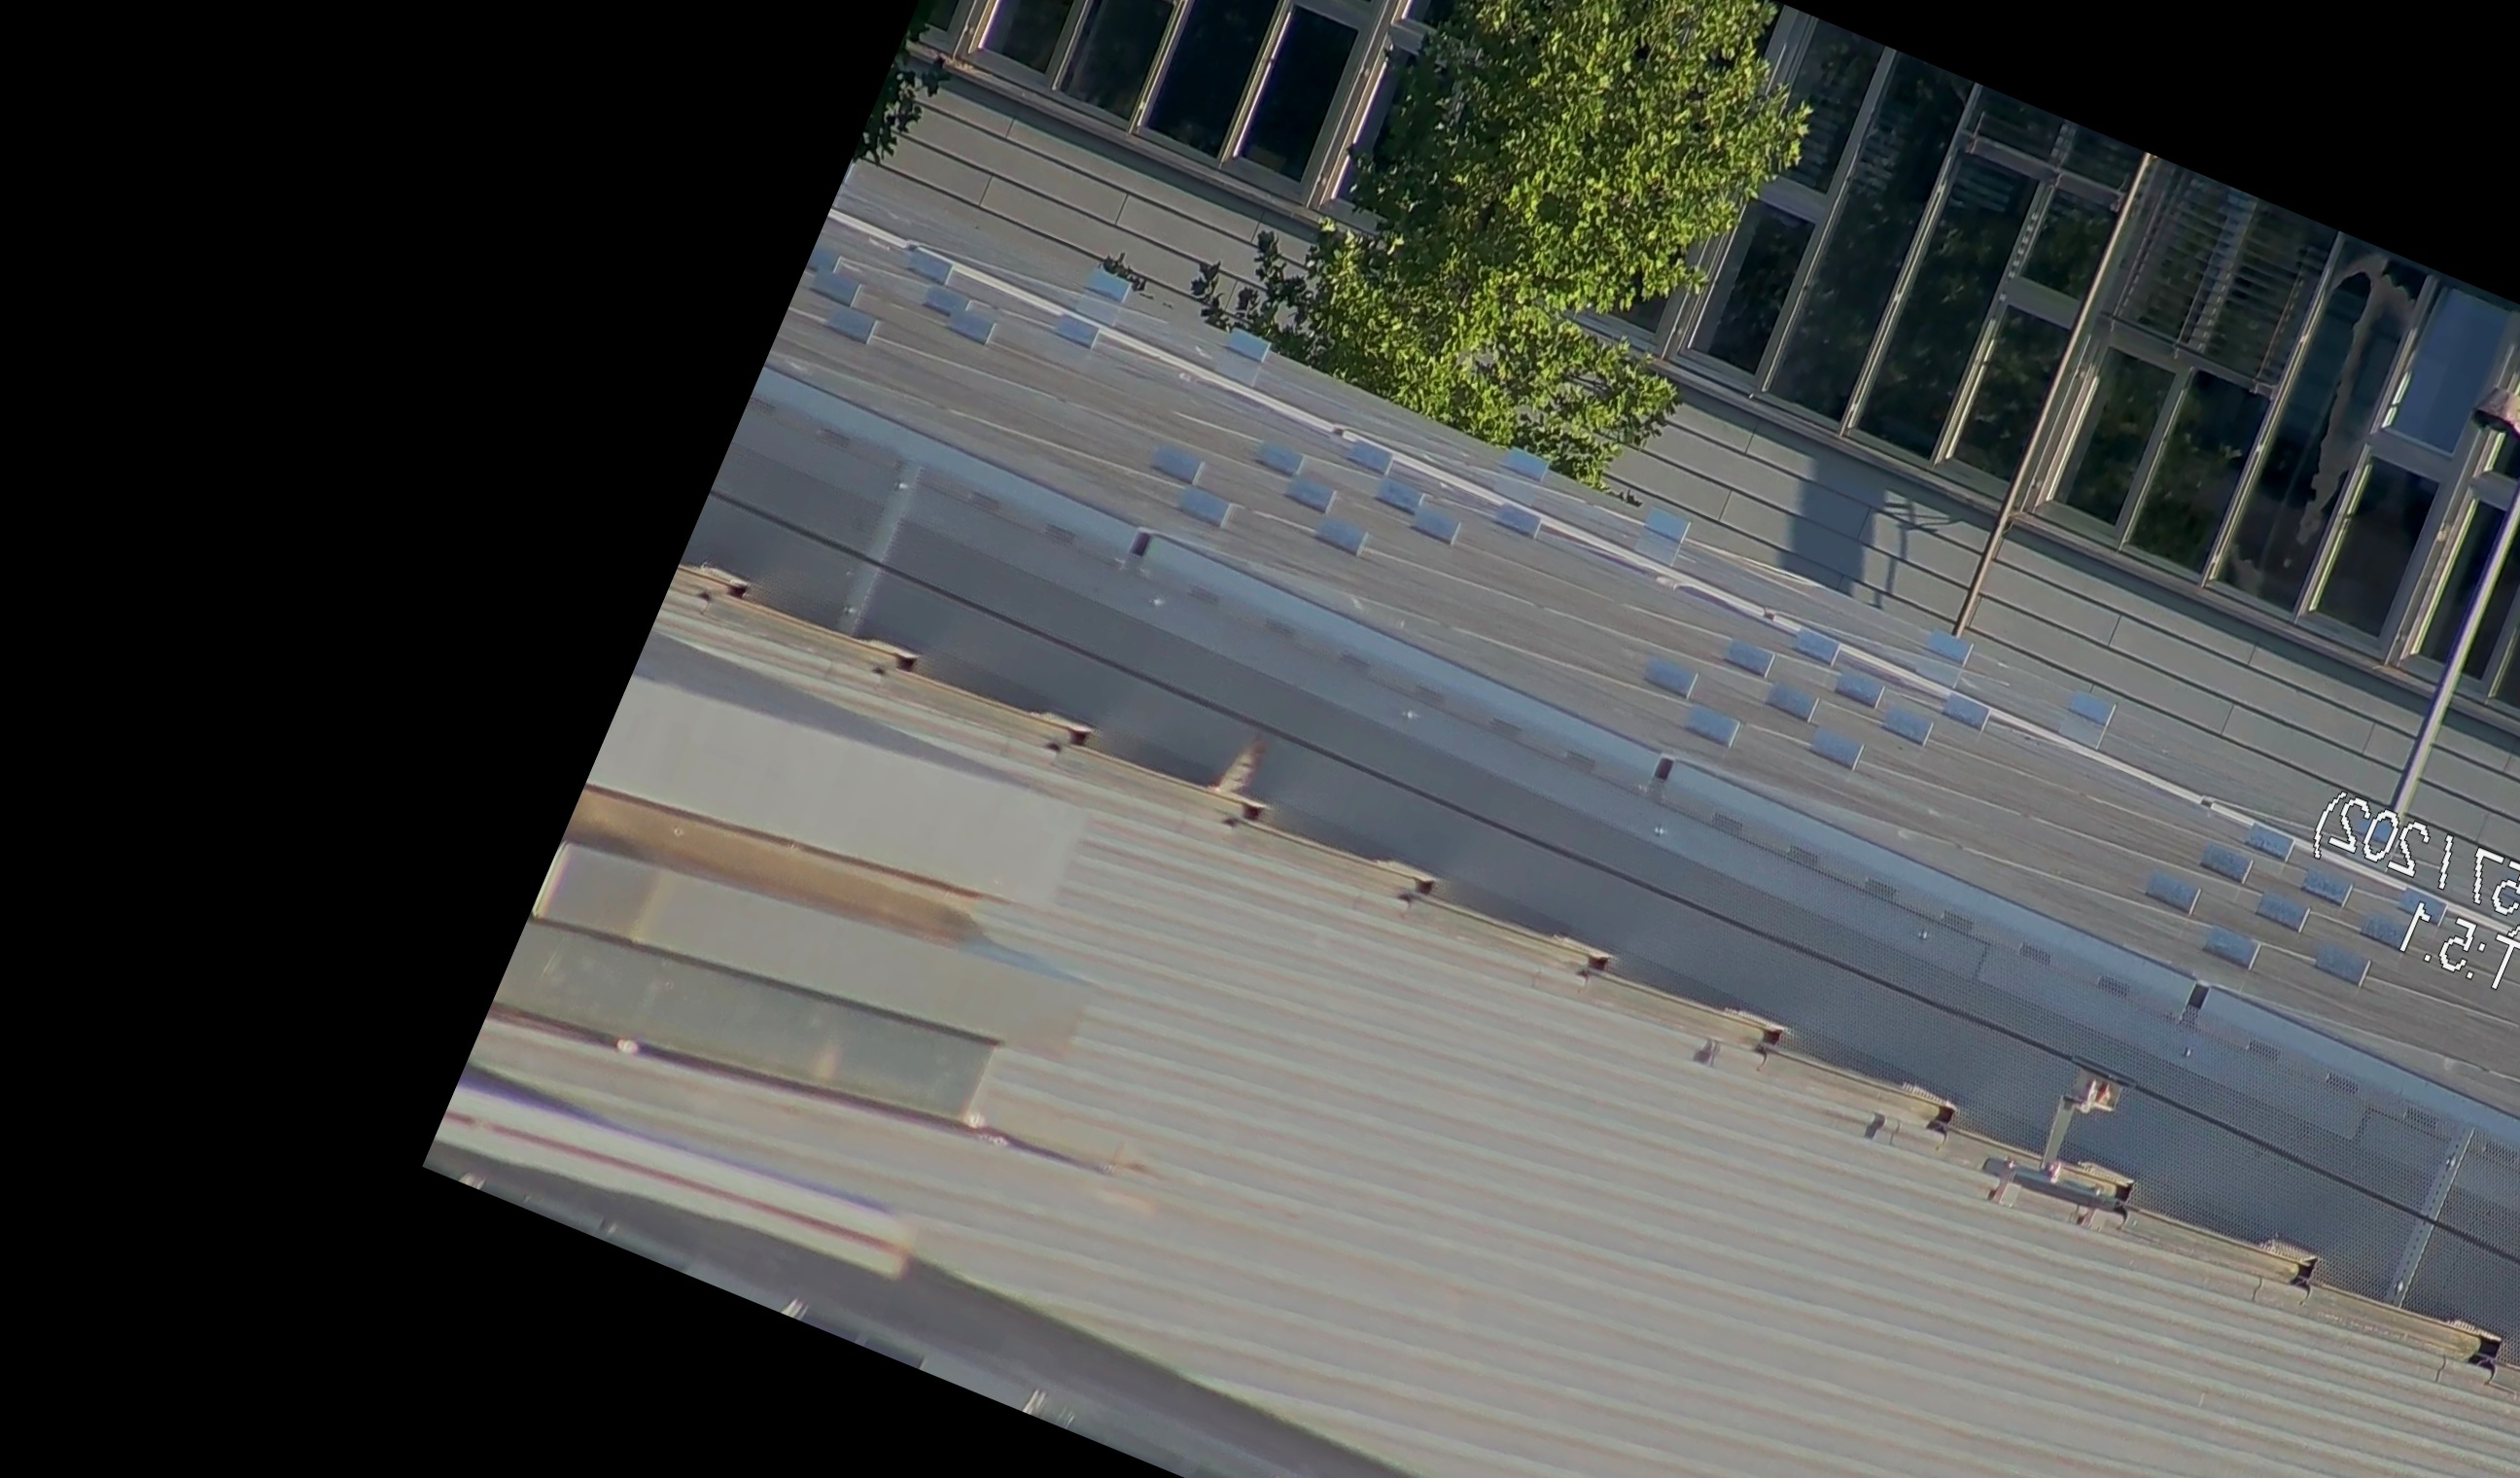Other: (1176, 709, 1300, 843)
